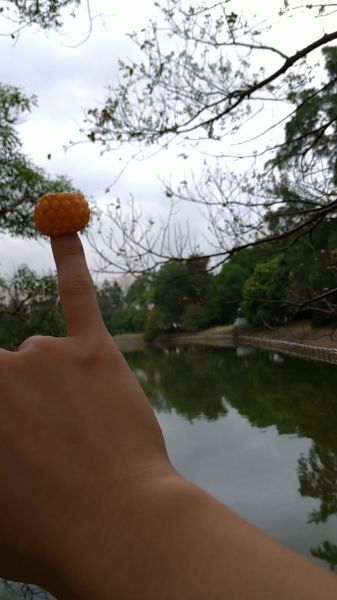eggs: (33, 191, 89, 237)
